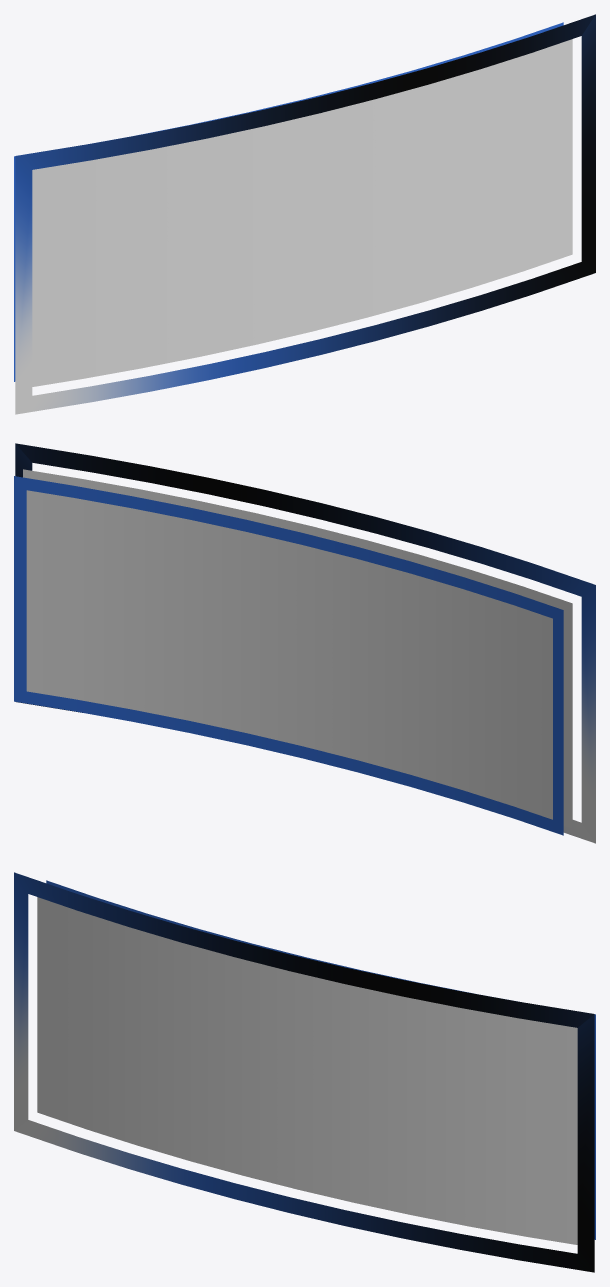
File: ___button_10x3.fbx
3 views of the same model, one above another, from view 1: azimuth 30°, elevation 25°; view 2: azimuth 150°, elevation 25°; view 3: azimuth 330°, elevation 25° (orthographic).
Visible parts, largest first — view 1: ___button_10x3, ___glow, ___frame; view 2: ___button_10x3, ___frame, ___glow; view 3: ___button_10x3, ___glow, ___frame.
Boxes of the visible parts, x1,y1,x2,y2 form: ___button_10x3: (32, 39, 572, 386); ___glow: (15, 14, 595, 414); ___frame: (14, 22, 563, 381); ___button_10x3: (23, 469, 572, 828); ___frame: (14, 476, 563, 835); ___glow: (15, 443, 595, 843); ___button_10x3: (37, 897, 577, 1244); ___glow: (14, 872, 594, 1272); ___frame: (46, 880, 595, 1239).
Bounding box in the file's own units: 18.35 × 7.81 × 1.76.
